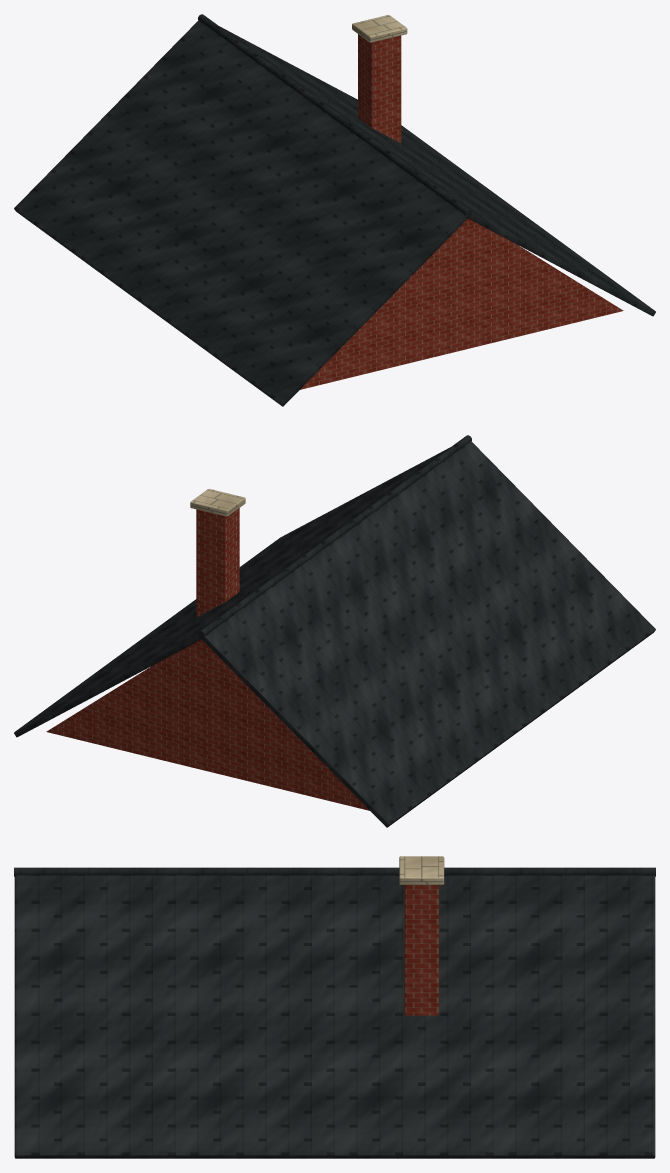
The model's file is roof-gable-chimney.lod0.gltf.
3 views of the same model, one above another, from view 1: azimuth 30°, elevation 25°; view 2: azimuth 150°, elevation 25°; view 3: azimuth 270°, elevation 25° (orthographic). The views are drawn at different scales.
Parts seen in each view (by area): view 1: roof-gable-chimney; view 2: roof-gable-chimney; view 3: roof-gable-chimney.
Part boxes in pixels (bbox=[...]): roof-gable-chimney: bbox=[14, 14, 655, 406]; roof-gable-chimney: bbox=[14, 435, 655, 827]; roof-gable-chimney: bbox=[14, 856, 655, 1158].
Size of the model in its own units: 7.2 by 3.52 by 8.88.
3 materials, 3 textured.
